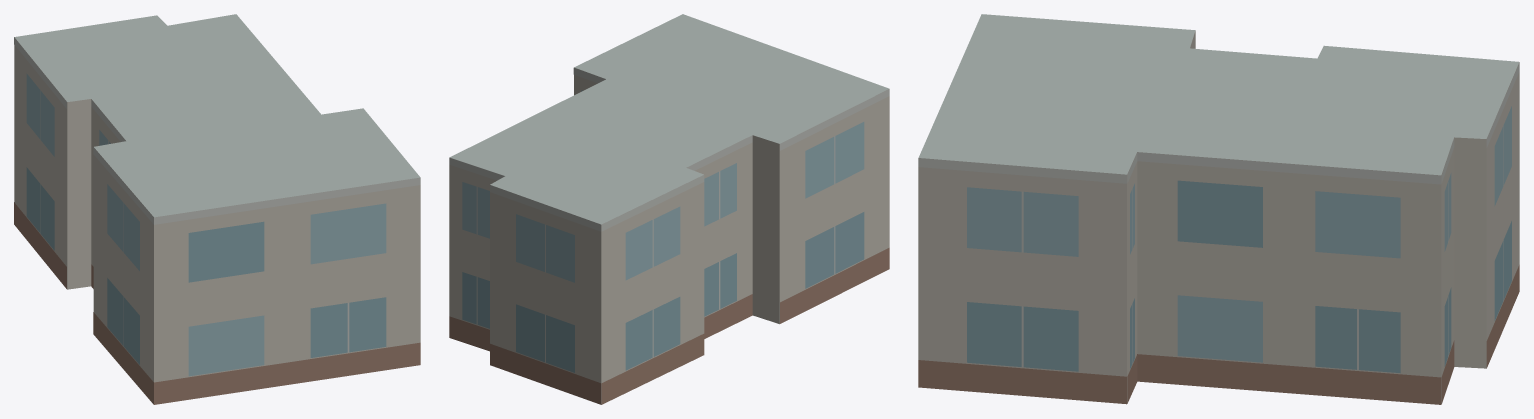
File: survey-upis-32696203.glb
The picture shows the model from 3 angles, left to right: view 1: azimuth 30°, elevation 25°; view 2: azimuth 150°, elevation 25°; view 3: azimuth 270°, elevation 25°; orthographic projection. The views are drawn at different scales.
Parts seen in each view (by area): view 1: survey-upis-32696203.tmp; view 2: survey-upis-32696203.tmp; view 3: survey-upis-32696203.tmp.
Part boxes in pixels (bbox=[...]): survey-upis-32696203.tmp: bbox=[14, 14, 420, 404]; survey-upis-32696203.tmp: bbox=[449, 14, 889, 404]; survey-upis-32696203.tmp: bbox=[918, 14, 1519, 404].
Size of the model in its own units: 9.21 by 6.1 by 14.49.
